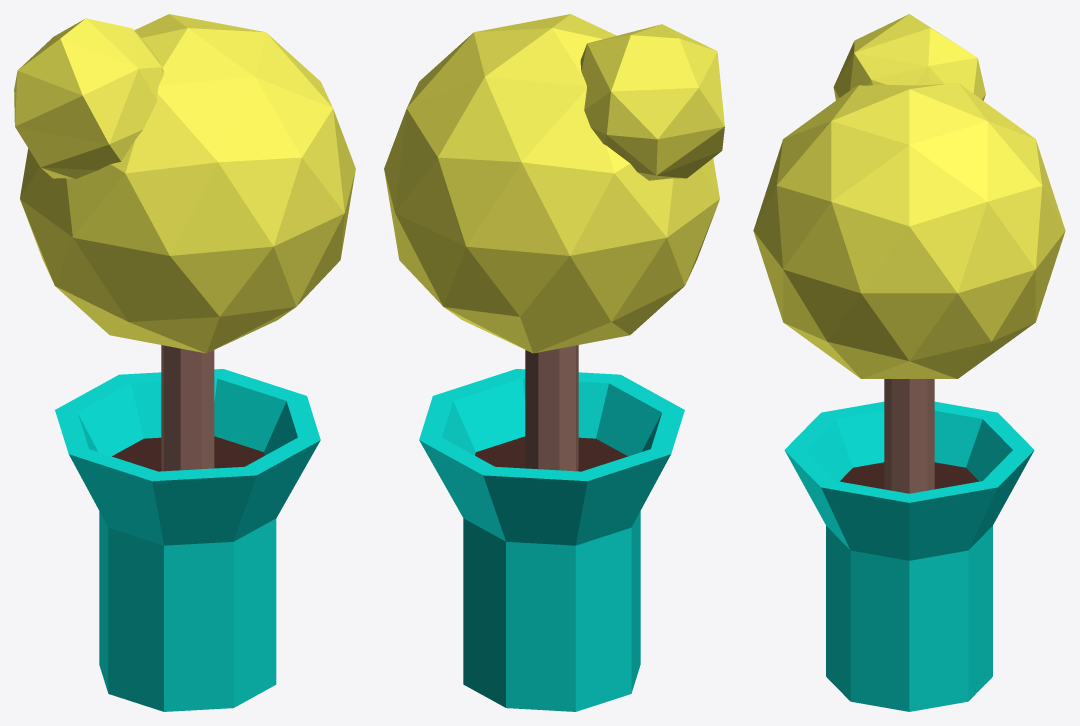
Rendered from Plant_4.fbx.
3 views of the same model, side by side, from view 1: azimuth 30°, elevation 25°; view 2: azimuth 150°, elevation 25°; view 3: azimuth 270°, elevation 25° (orthographic). The views are drawn at different scales.
Parts seen in each view (by area): view 1: Plant_4; view 2: Plant_4; view 3: Plant_4.
Boxes of the visible parts, <box> form: Plant_4: <box>14,14,355,711</box>; Plant_4: <box>384,14,724,711</box>; Plant_4: <box>753,14,1065,711</box>.
Bounding box in the file's own units: 79.13 × 161 × 74.88.
